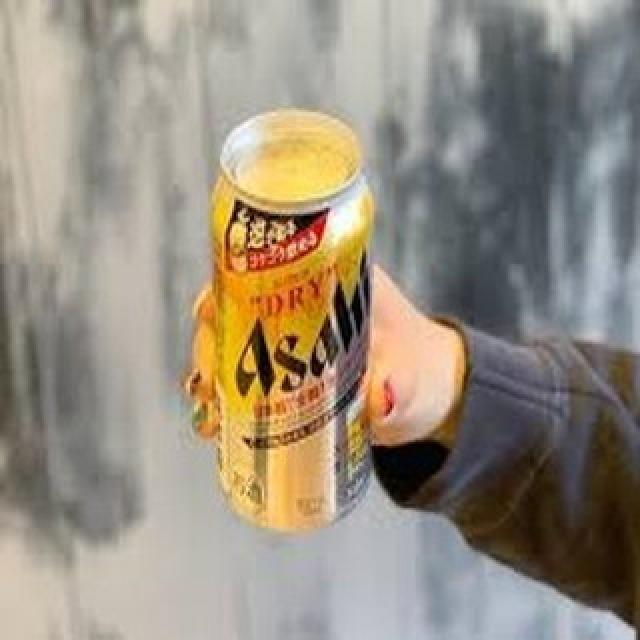can: (208, 106, 372, 538)
